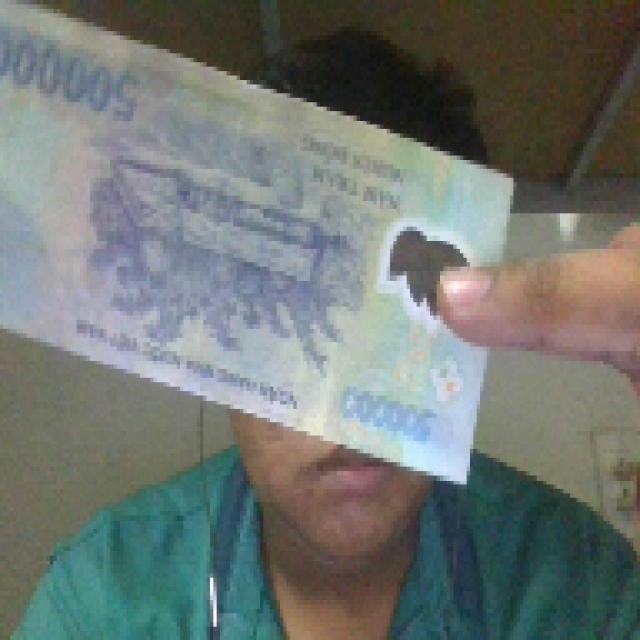500 000 VND: (0, 0, 517, 489)
